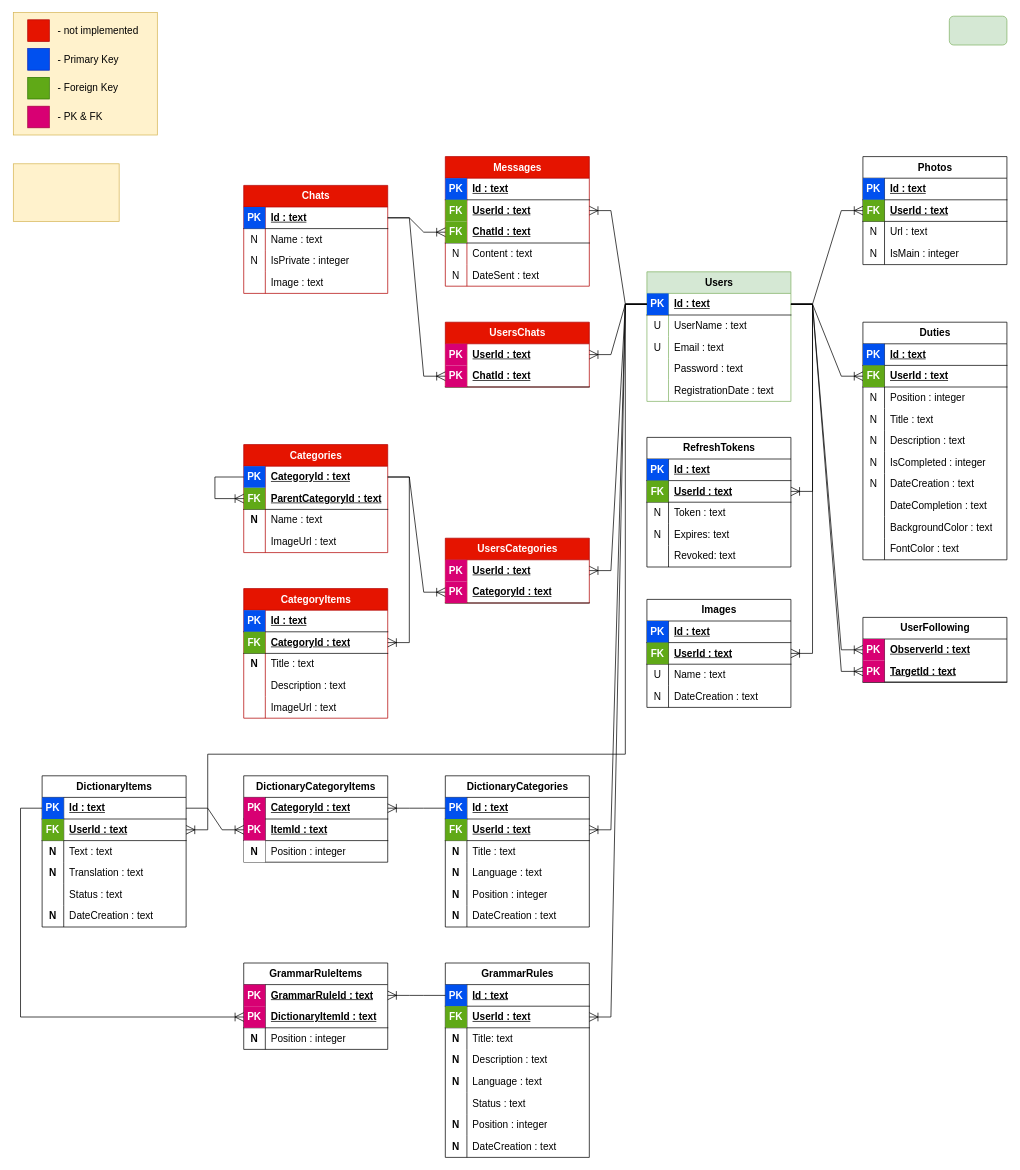
The diagram is 1020 pixels wide and 1170 high, and some of its shapes have lost their labels. The shapes that lost their labels are listed below. From the top down, each one's centre as x and y in pixels, then its label:
point 978,30: SQLite
point 66,192: PK - Primary Key FK - Foreign Key U - Unique N - Not null
